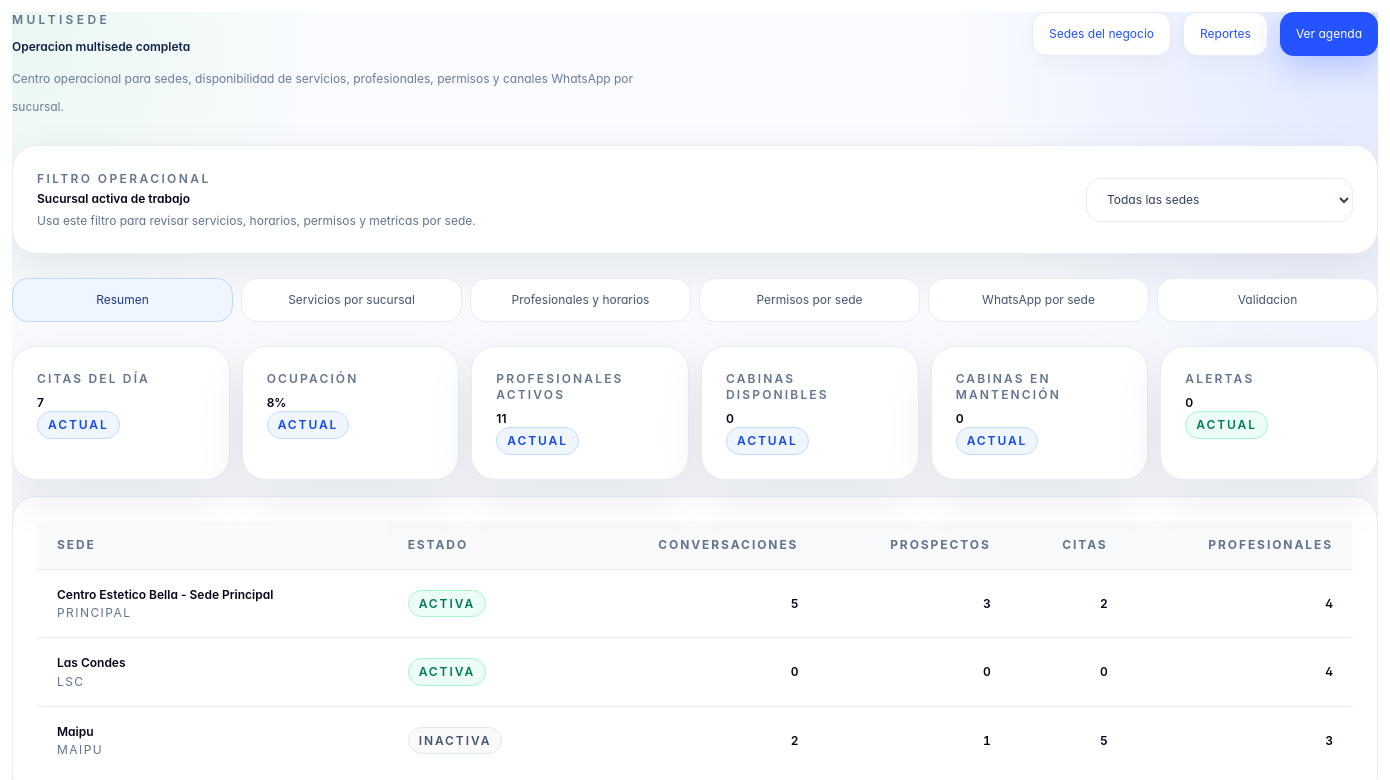
Test case: MultisiteOperationsPage - Catalog (Servicios por sede) › shows only services when multiple locations are selected
Expected: the table is shown, [37,521,1353,774]
Click the button "Servicios por sucursal" at (352, 300), box [241,278,462,322]
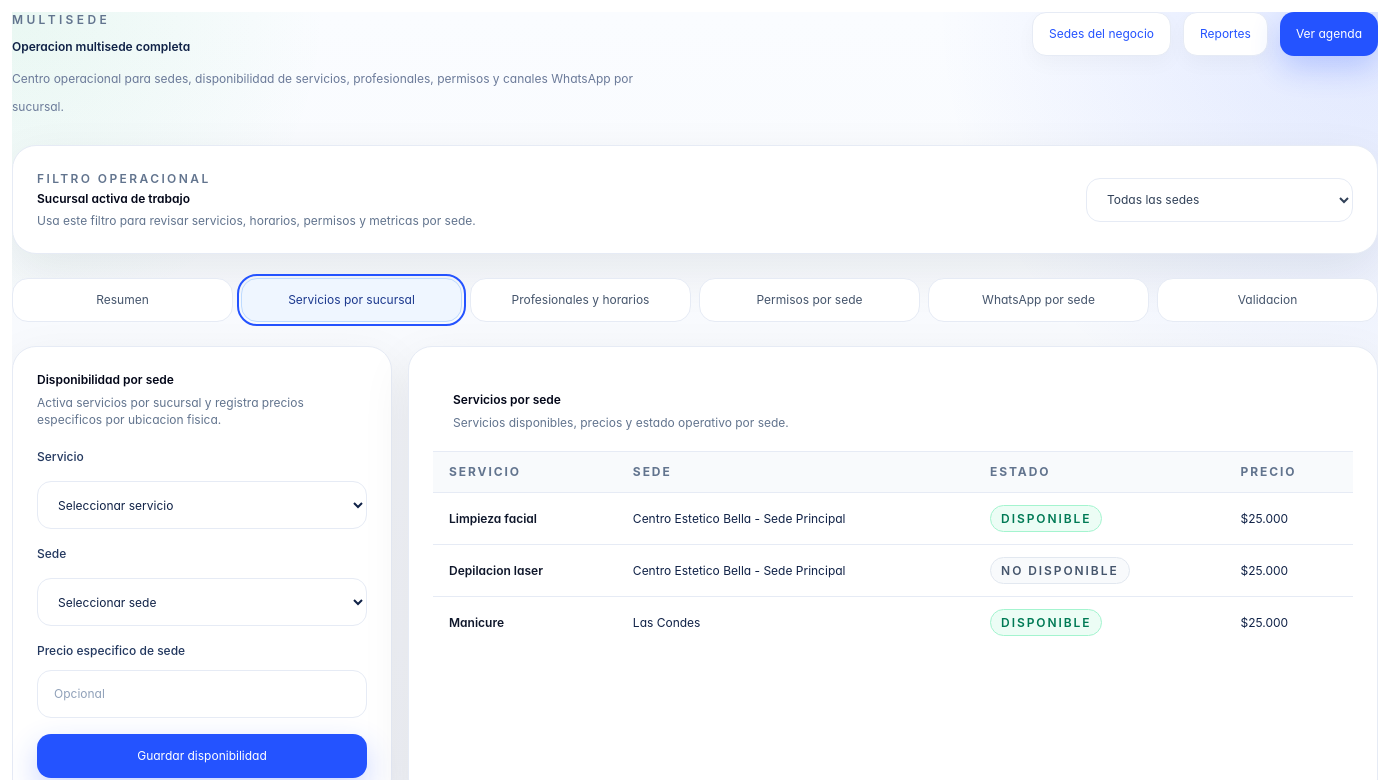
Now the table shows "Limpieza facial", box [449,511,537,526]
Now the table shows "Manicure", box [449,615,504,630]
Now the table shows "Depilacion laser", box [449,563,543,578]
